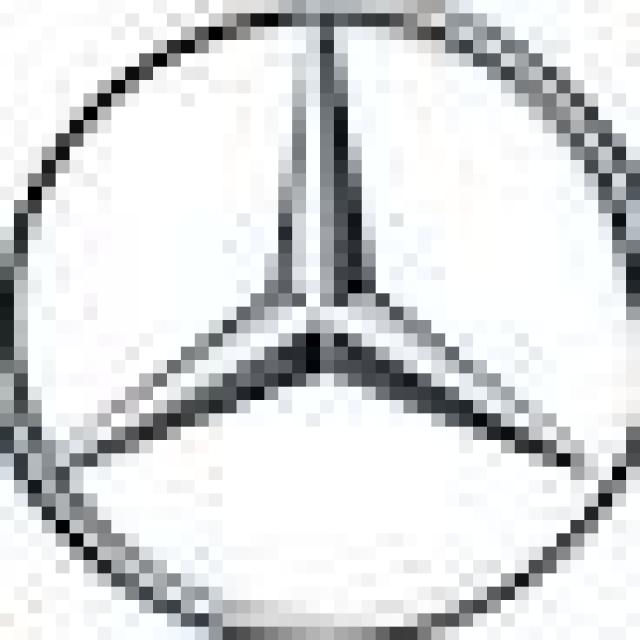mercedes: (1, 0, 640, 627)
